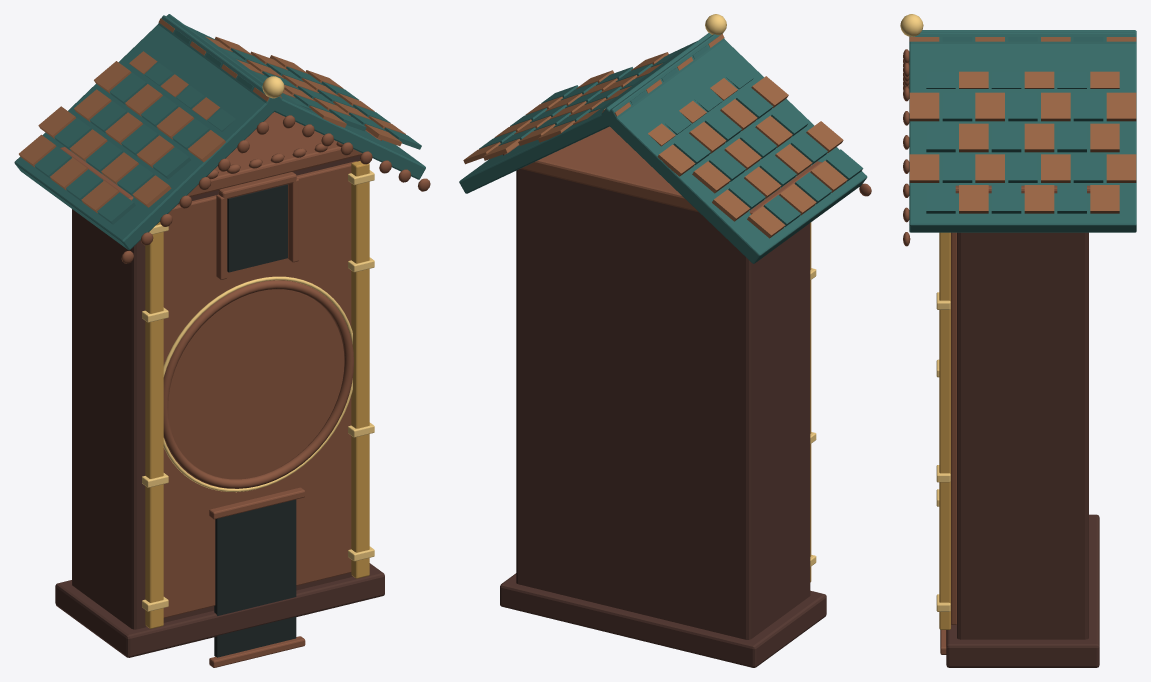
The model's file is cuckoo-house.glb.
3 views of the same model, side by side, from view 1: azimuth 30°, elevation 25°; view 2: azimuth 150°, elevation 25°; view 3: azimuth 270°, elevation 25° (orthographic). The views are drawn at different scales.
Parts seen in each view (by area): view 1: cuckoo-house.001; view 2: cuckoo-house.001; view 3: cuckoo-house.001.
Part boxes in pixels (x1,y1,x2,y2): cuckoo-house.001: [14, 14, 430, 667]; cuckoo-house.001: [459, 14, 871, 667]; cuckoo-house.001: [900, 14, 1136, 667].
Bounding box in the file's own units: 7.09 × 12.87 × 4.47.
